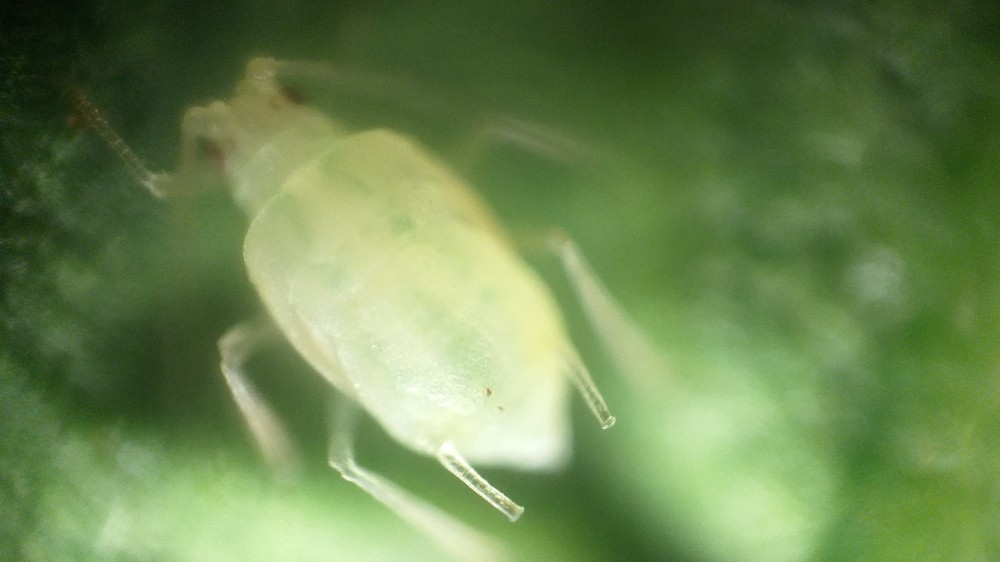Pulgon: (83, 11, 720, 554)
